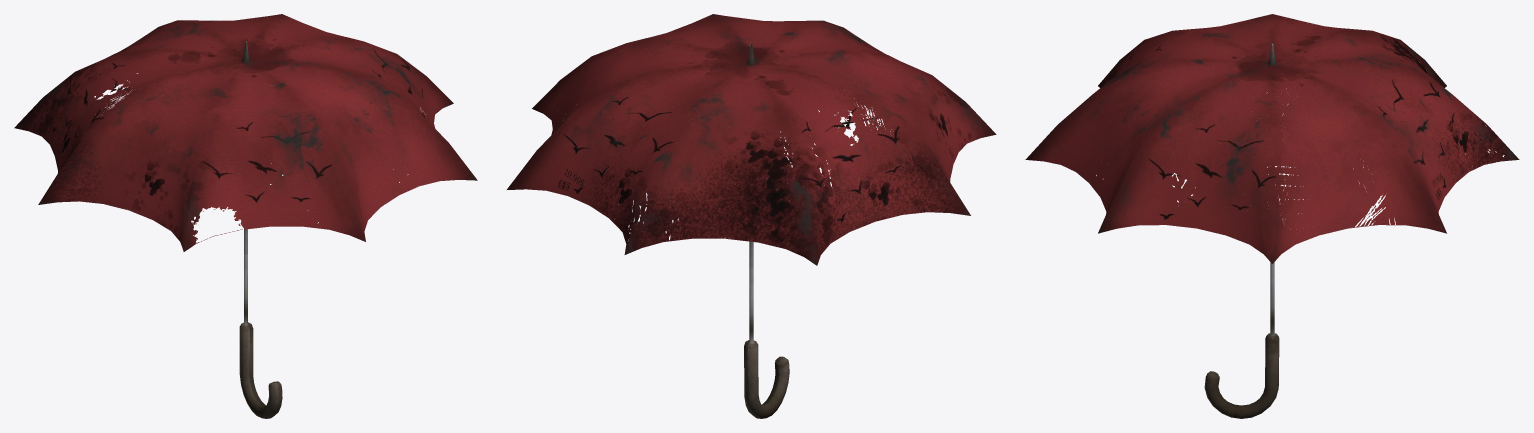
The model's file is umbrella.glb.
3 views of the same model, side by side, from view 1: azimuth 30°, elevation 25°; view 2: azimuth 150°, elevation 25°; view 3: azimuth 270°, elevation 25° (orthographic). The views are drawn at different scales.
Visible parts, largest first — view 1: Umbrella_LOW_Umbrella_MTL_0; view 2: Umbrella_LOW_Umbrella_MTL_0; view 3: Umbrella_LOW_Umbrella_MTL_0.
Boxes of the visible parts, x1,y1,x2,y2 form: Umbrella_LOW_Umbrella_MTL_0: [14, 14, 477, 418]; Umbrella_LOW_Umbrella_MTL_0: [507, 14, 996, 418]; Umbrella_LOW_Umbrella_MTL_0: [1025, 14, 1519, 418].
Size of the model in its own units: 1.19 by 0.996 by 1.19.
1 material, 1 textured.
